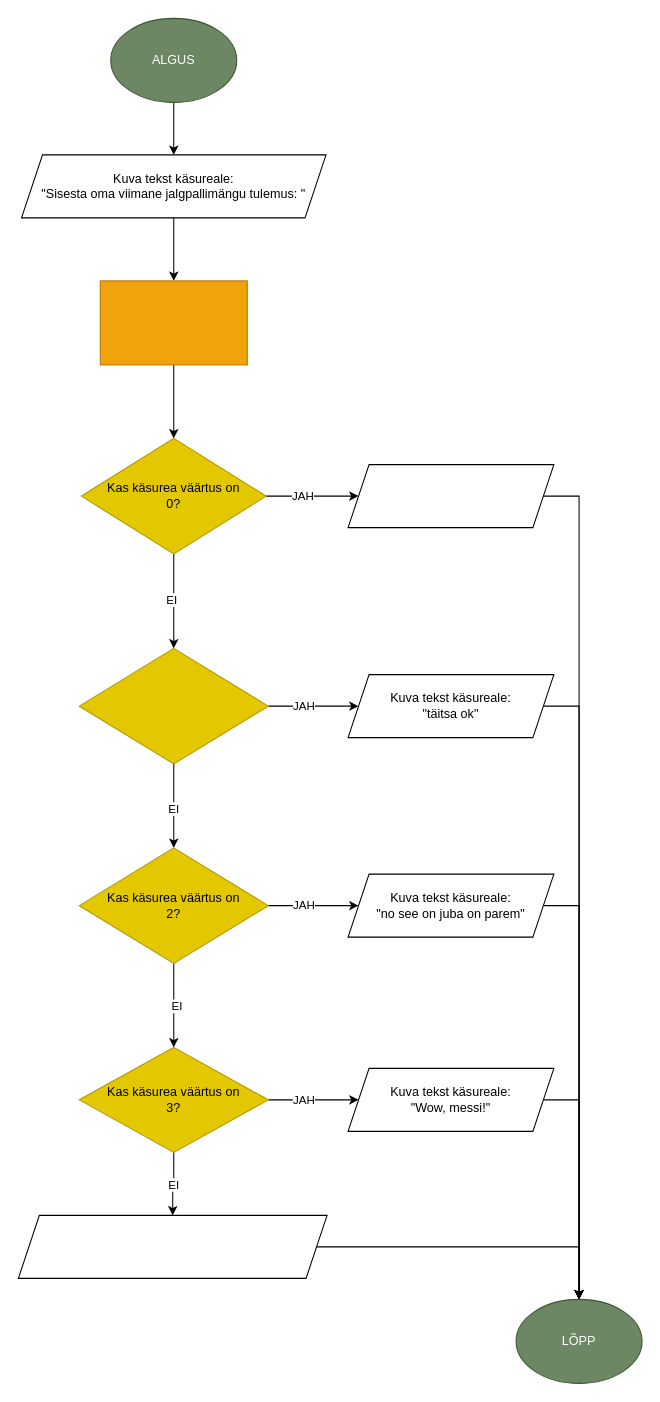
The diagram is 660 pixels wide and 1402 high, and some of its shapes have lost their labels. Each missing label, with the centre of its shape:
Kas käsurea väärtus on 1?: point (173, 705)
Kuva tekst käsureale: "Ei tunne sellist skoori, see liiga suur minu jaoks.": point (172, 1246)
Kuva tekst käsureale: "PUDRUJALG OLED VÄ?!?!": point (450, 496)
Oota kuni kasutaja sisesta käsureale väärtuse ja teisenda see täisarvuks.: point (173, 322)
